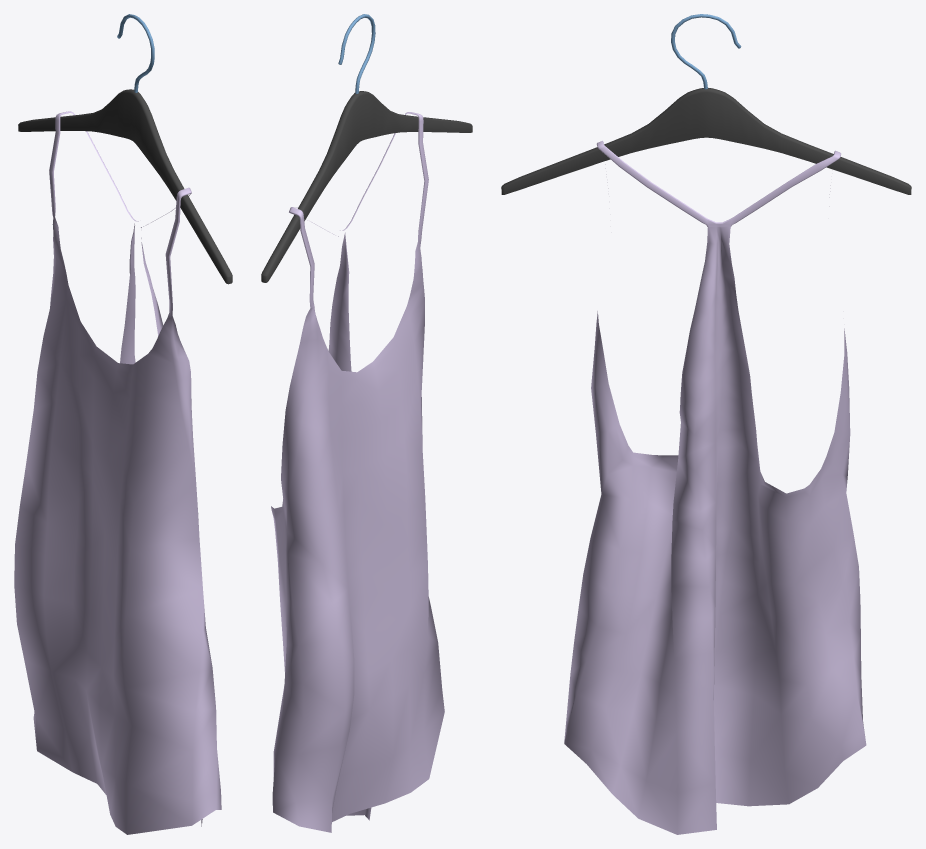
The picture shows the model from 3 angles, left to right: view 1: azimuth 30°, elevation 25°; view 2: azimuth 150°, elevation 25°; view 3: azimuth 270°, elevation 25°; orthographic projection. The views are drawn at different scales.
Parts seen in each view (by area): view 1: maika, Group021; view 2: maika, Group021; view 3: maika, Group021.
Part boxes in pixels (x1=…): maika: x1=14, y1=111, x2=221, y2=834; Group021: x1=18, y1=14, x2=232, y2=284; maika: x1=271, y1=112, x2=444, y2=832; Group021: x1=261, y1=14, x2=472, y2=282; maika: x1=564, y1=141, x2=866, y2=834; Group021: x1=501, y1=14, x2=911, y2=194.
Bounding box in the file's own units: 11.59 × 81.35 × 37.92.
